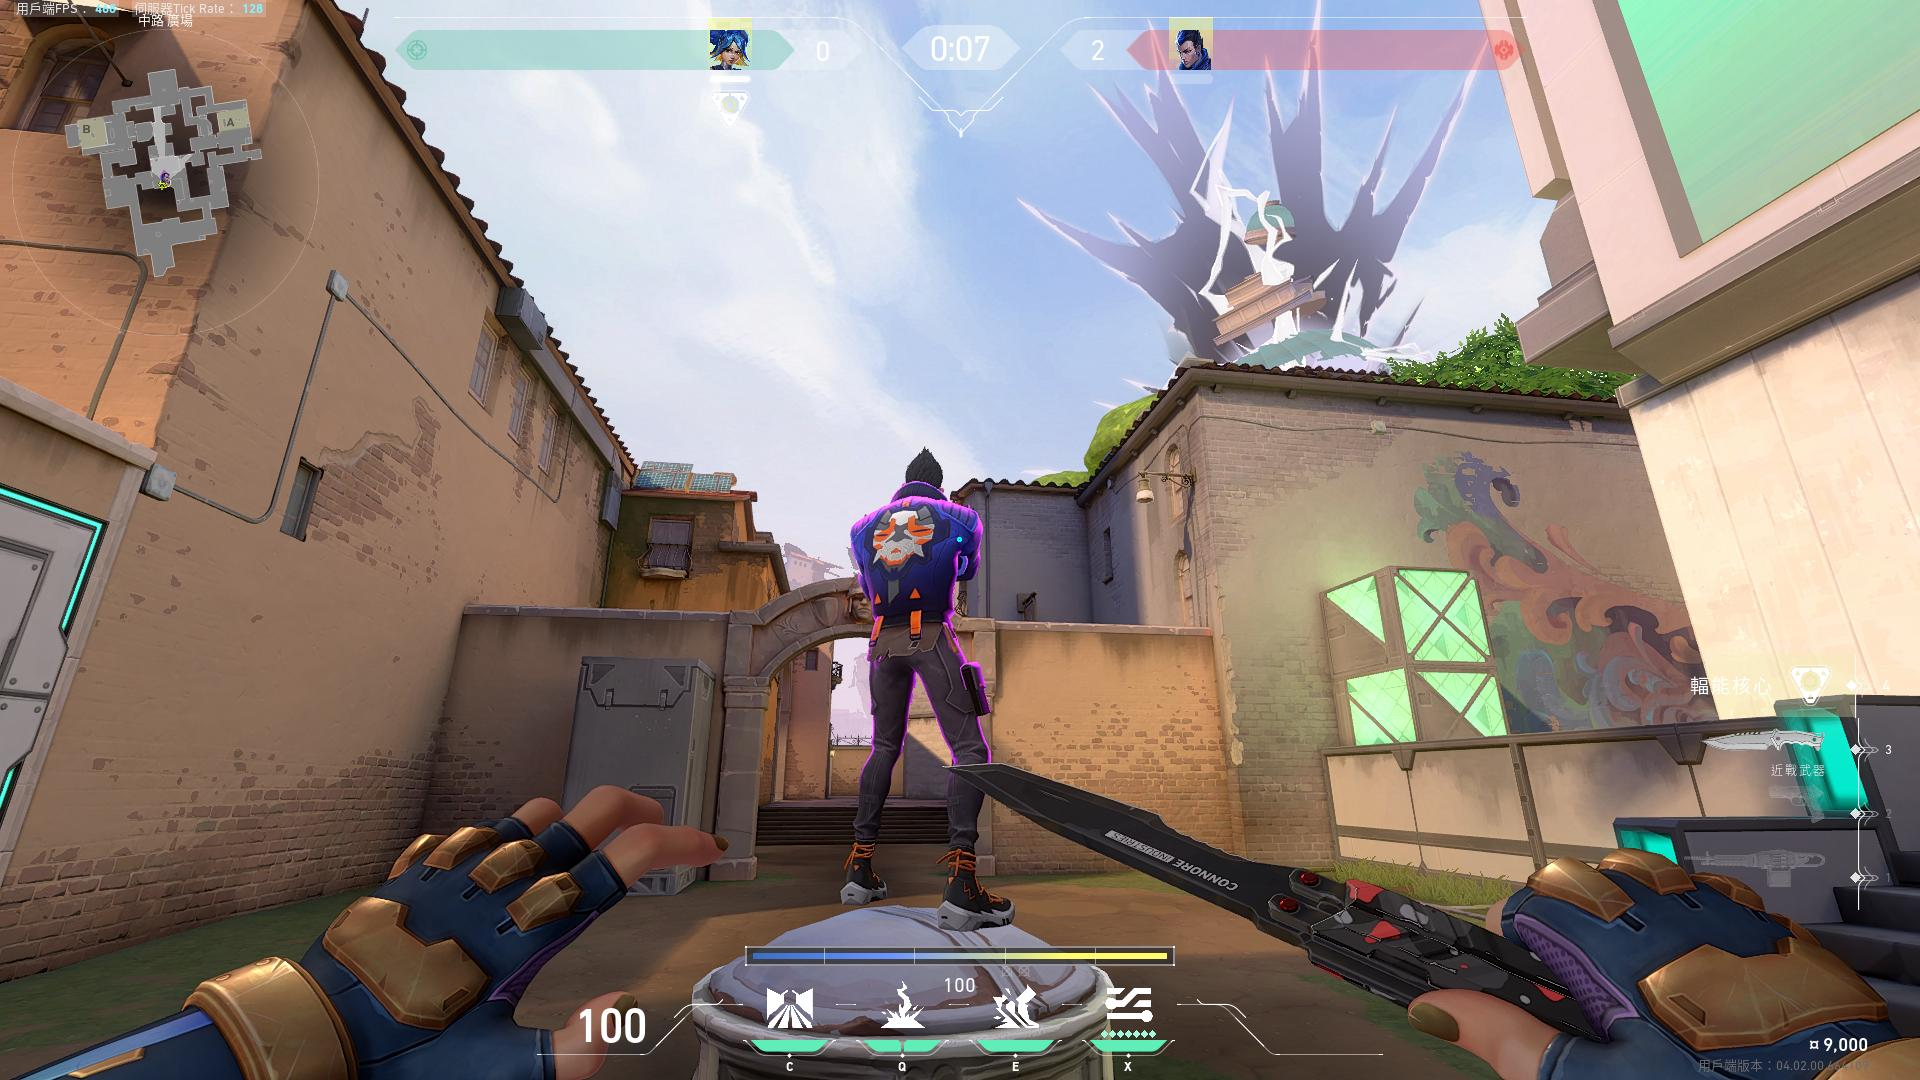enemyBody: (865, 514, 972, 603)
